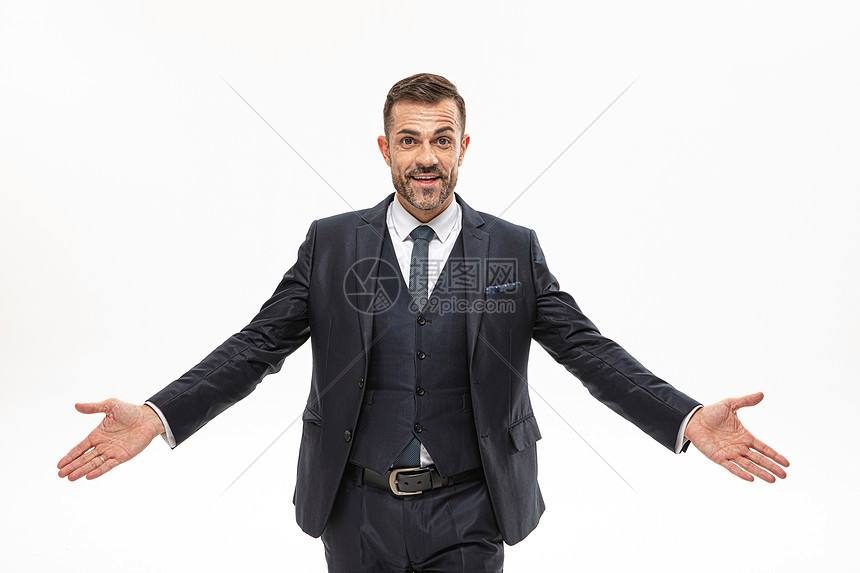no-phone: (687, 387, 791, 486), (52, 396, 158, 483)
